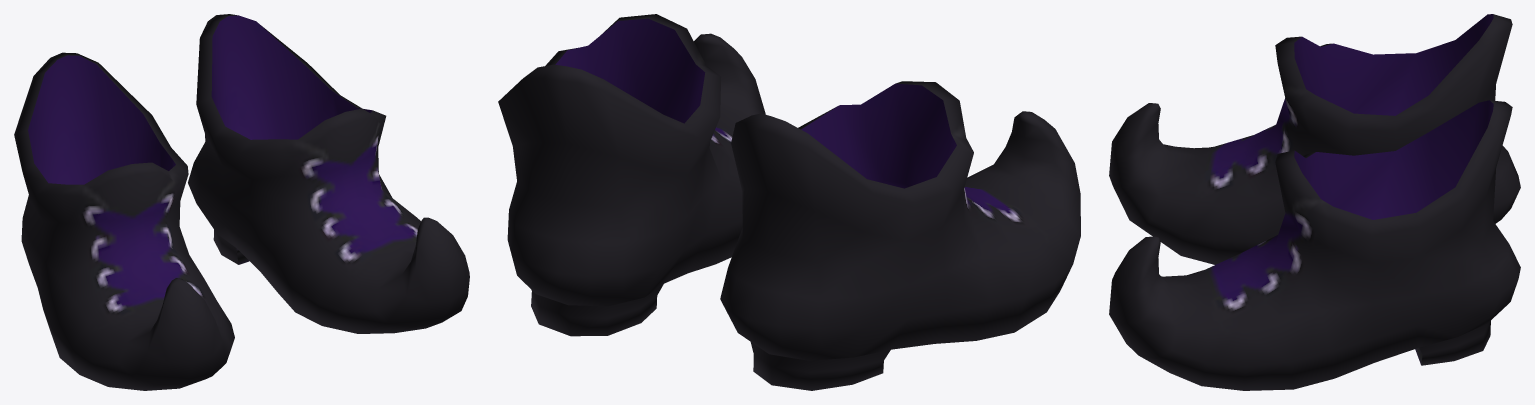
File: ShoesKneeWitch0.glb
The picture shows the model from 3 angles, left to right: view 1: azimuth 30°, elevation 25°; view 2: azimuth 150°, elevation 25°; view 3: azimuth 270°, elevation 25°; orthographic projection. The views are drawn at different scales.
Visible parts, largest first — view 1: Body__mShoes; view 2: Body__mShoes; view 3: Body__mShoes.
Boxes of the visible parts, <box> form: Body__mShoes: <box>14,14,469,390</box>; Body__mShoes: <box>498,14,1080,390</box>; Body__mShoes: <box>1109,14,1520,390</box>.
Bounding box in the file's own units: 3.41 × 1.82 × 2.92.
Materials: 1 (1 with a texture image).
